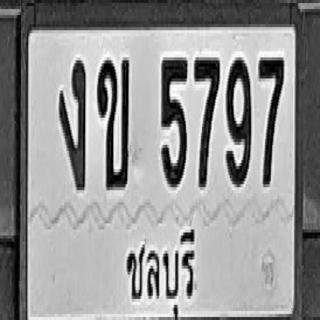A02: (98, 56, 129, 189)
A07: (58, 57, 85, 190)
N05: (161, 56, 187, 186)
N07: (194, 54, 220, 187), (258, 56, 284, 186)
N09: (225, 57, 251, 184)
P13: (121, 215, 198, 320)
